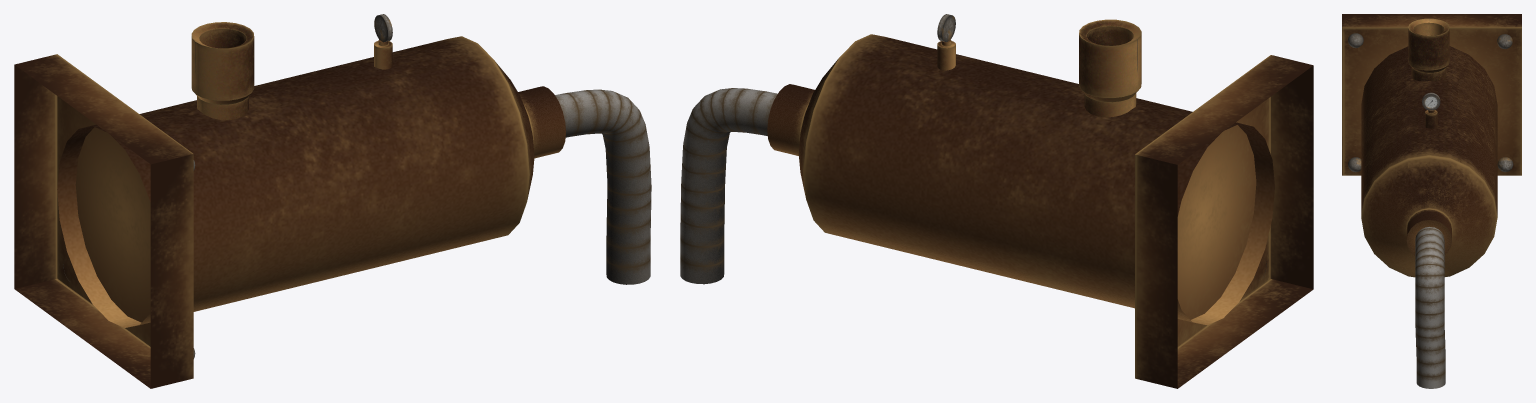
Rendered from Gas_Boiler.fbx.
3 renders of one model, left to right at view 1: azimuth 30°, elevation 25°; view 2: azimuth 150°, elevation 25°; view 3: azimuth 270°, elevation 25°, orthographic. The views are drawn at different scales.
Parts seen in each view (by area): view 1: pCylinder3; view 2: pCylinder3; view 3: pCylinder3.
Part boxes in pixels (x1,y1,x2,y2): pCylinder3: (14, 14, 651, 388); pCylinder3: (680, 14, 1313, 388); pCylinder3: (1342, 14, 1521, 388).
Bounding box in the file's own units: 6.63 × 3.82 × 2.77.
